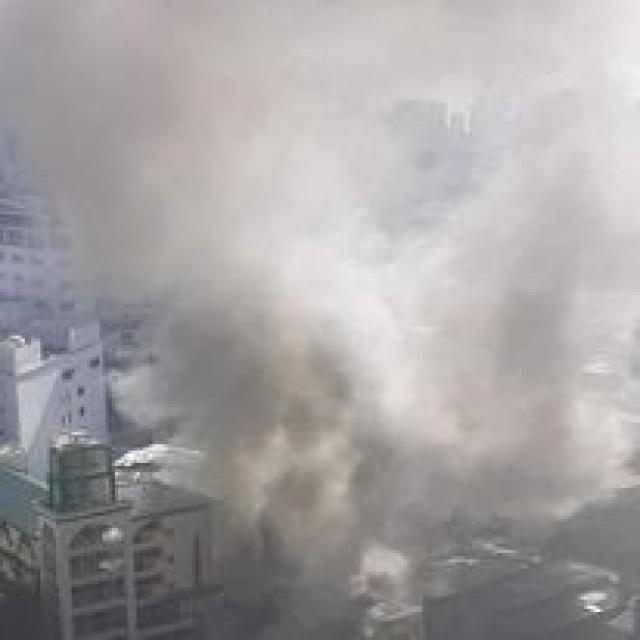Smoke: (6, 3, 388, 640), (448, 147, 614, 545)
